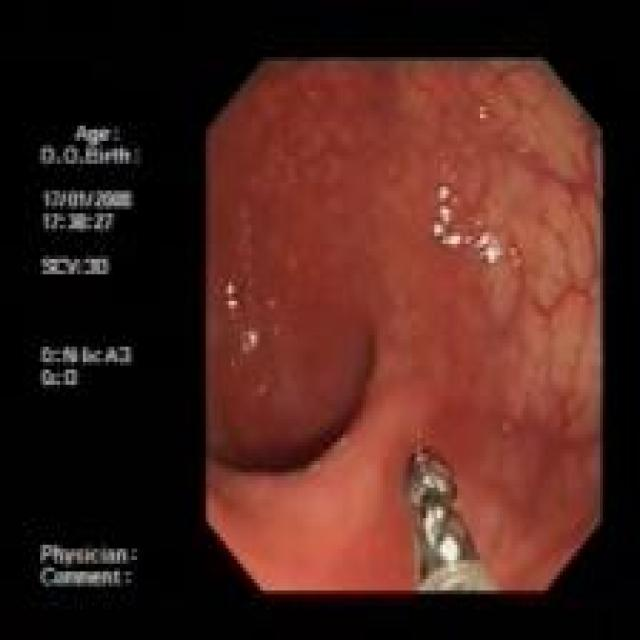blur: (402, 446, 501, 589)
color misalignment: (38, 126, 142, 589)
contrast: (209, 414, 345, 474)
instrument: (401, 446, 501, 590)
specularity: (430, 181, 464, 252), (421, 506, 447, 546), (477, 229, 502, 268), (437, 530, 460, 561)
